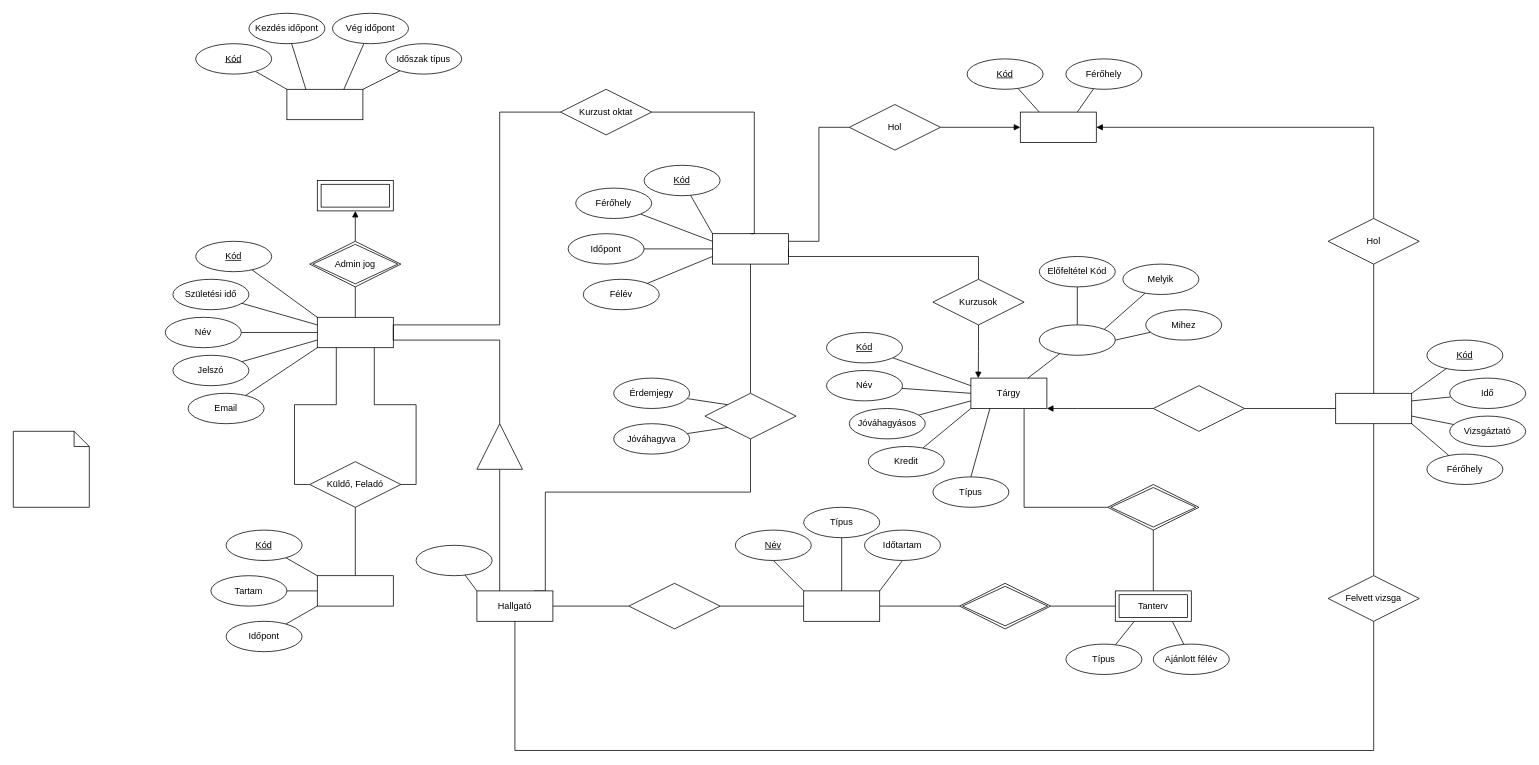
Image size: 1539x765. Some labels were removed from this diagram. The shapes that lost their labels are listed below. From the top down, each one's centre as x and y in pixels, then its label:
(x=324, y=104): Időszak
(x=1058, y=126): Terem
(x=355, y=195): Admin
(x=750, y=248): Kurzus
(x=355, y=332): Felhasználó
(x=1077, y=339): Előfeltétel
(x=750, y=416): Felvett kurzus
(x=1198, y=408): Milyen tárgyból
(x=1373, y=408): Vizsga
(x=51, y=469): admin spec tanterv kapcs
(x=1153, y=507): Melyik tárgy
(x=453, y=560): Kezdés éve
(x=355, y=590): Üzenet
(x=674, y=606): Milyen szakon
(x=841, y=605): Szak
(x=1005, y=606): Melyik szakon
